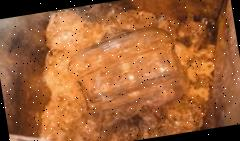glass: (62, 21, 190, 120)
